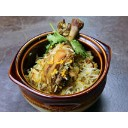briyani: (30, 18, 91, 92)
